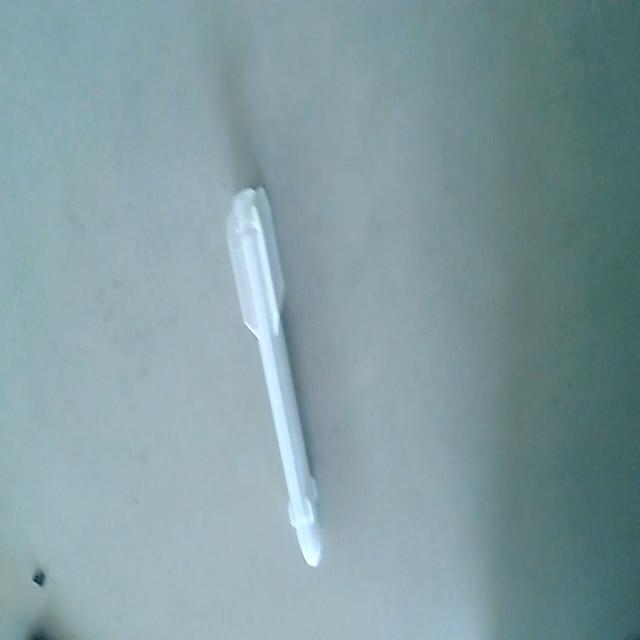Rocket: (222, 181, 324, 577)
